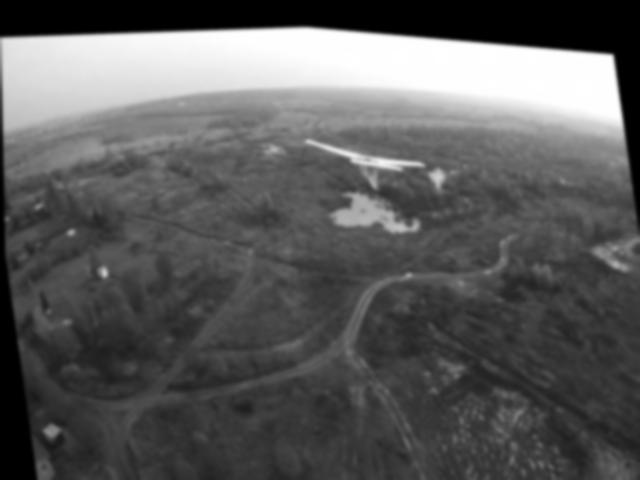hedef: (300, 106, 437, 207)
